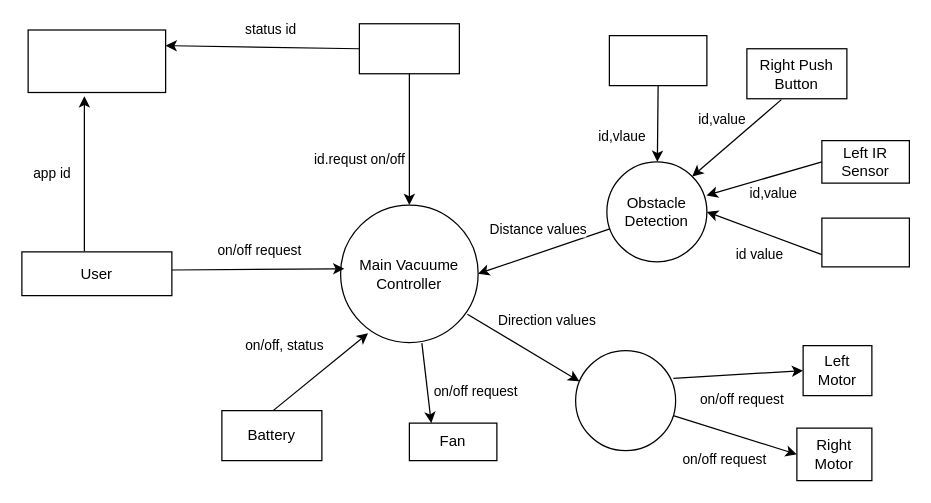
Some shapes in this 931 by 503 pixel diagram are drawn without their labels. The shapes that lost their labels are listed below. From the top down, each one's centre as x and y in pixels, then its label:
At point 96,60: "Mobile App".
At point 408,48: "WiFi Module".
At point 657,60: "Left Push Button".
At point 865,242: "Right IR Sensor".
At point 625,400: "Device Movement".
